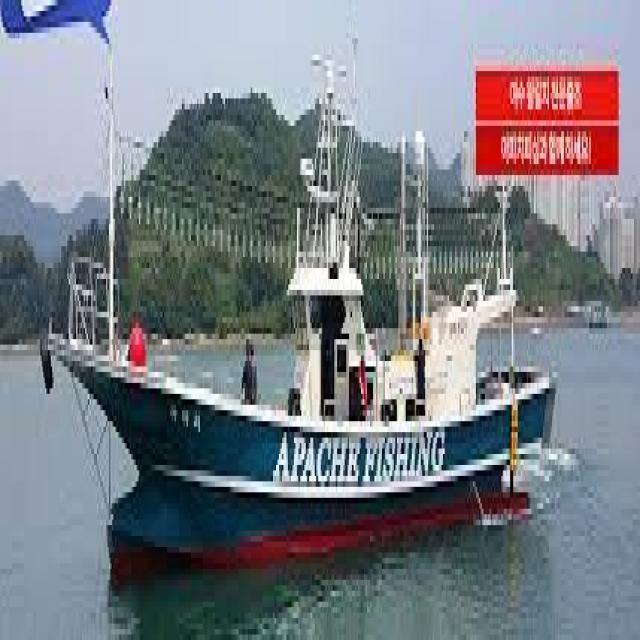Ship: (33, 17, 564, 592)
